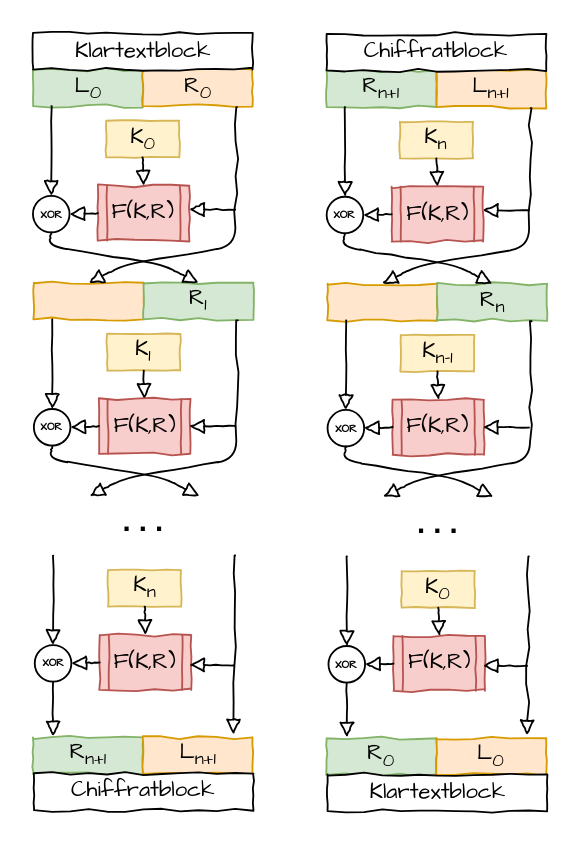
Some shapes in this 578 by 844 pixel diagram are drawn without their labels. Each missing label, with the centre of its shape:
"L 1" belongs at (x=88, y=300).
"L n" belongs at (x=381, y=301).
